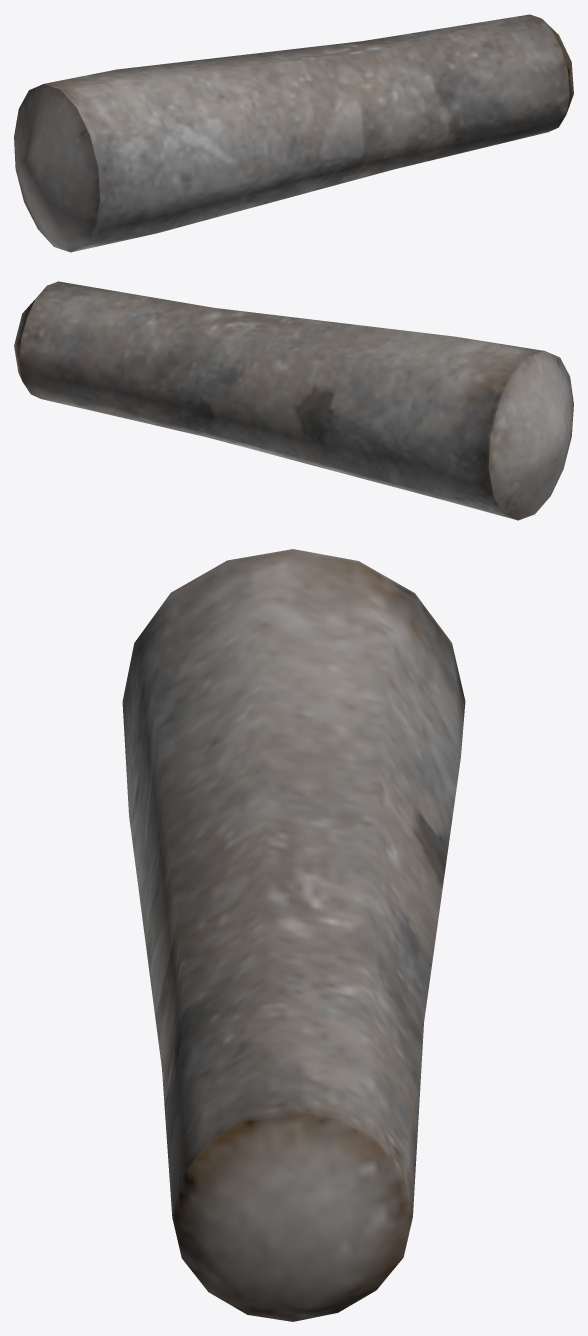
File: SM_Potion_Props_Pestel_01.fbx
3 views of the same model, one above another, from view 1: azimuth 30°, elevation 25°; view 2: azimuth 150°, elevation 25°; view 3: azimuth 270°, elevation 25° (orthographic). The views are drawn at different scales.
Parts seen in each view (by area): view 1: SM_Potion_Props_Pestel_01_LOD0; view 2: SM_Potion_Props_Pestel_01_LOD0; view 3: SM_Potion_Props_Pestel_01_LOD0.
Part boxes in pixels (x1,y1,x2,y2): SM_Potion_Props_Pestel_01_LOD0: [14, 14, 573, 252]; SM_Potion_Props_Pestel_01_LOD0: [14, 281, 573, 520]; SM_Potion_Props_Pestel_01_LOD0: [122, 549, 465, 1321].
Size of what is drawn, in the model's own units: 15.08 by 4.28 by 4.27.
